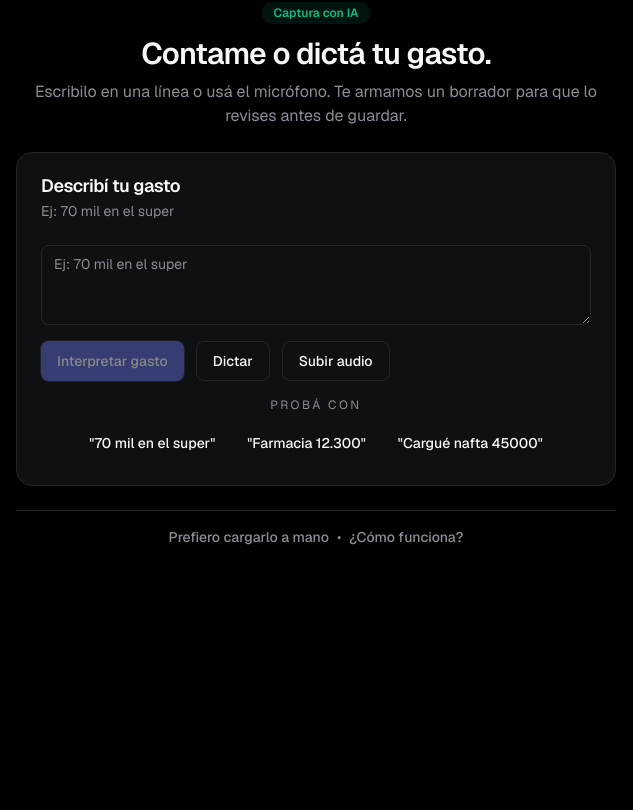
Test: CaptureScreen › keeps manual preview validation on required fields, category, and amount
Click the button "Prefiero cargarlo a mano": (249, 537) [169,527,329,547]
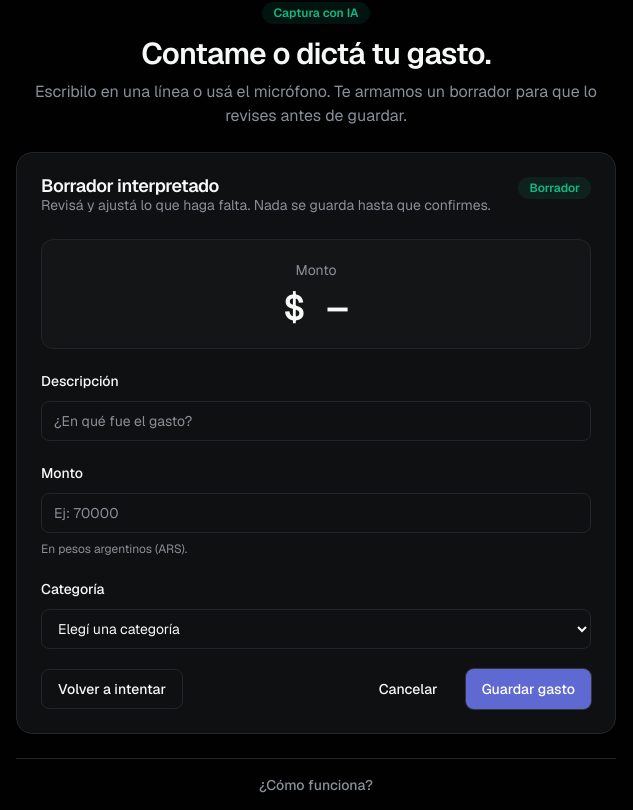
Click the button "Guardar gasto": (528, 689) [466,669,591,709]
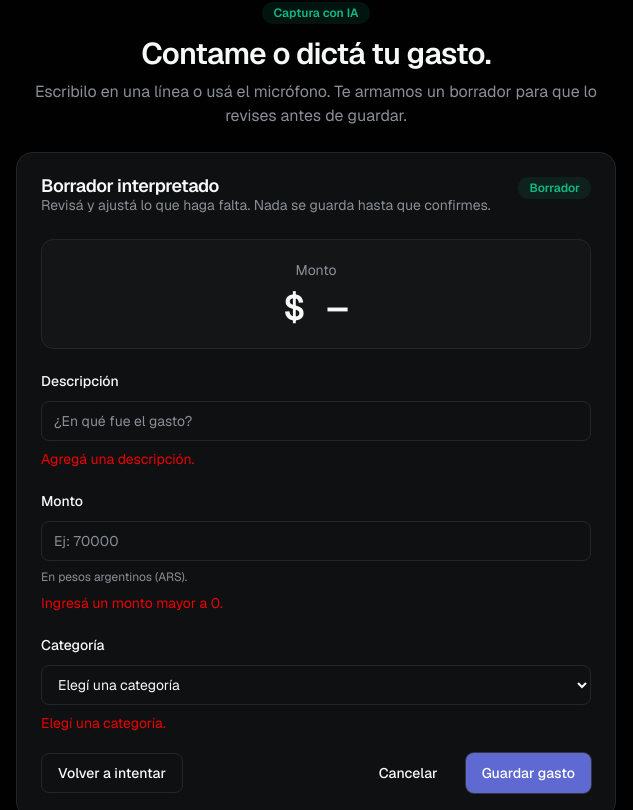
Check: the text "Agregá una descripción." is shown, box [41,450,194,468]
Check: the text "Ingresá un monto mayor a 0." is shown, box [41,594,223,612]
Check: the text "Elegí una categoría." is shown, box [41,714,166,732]
